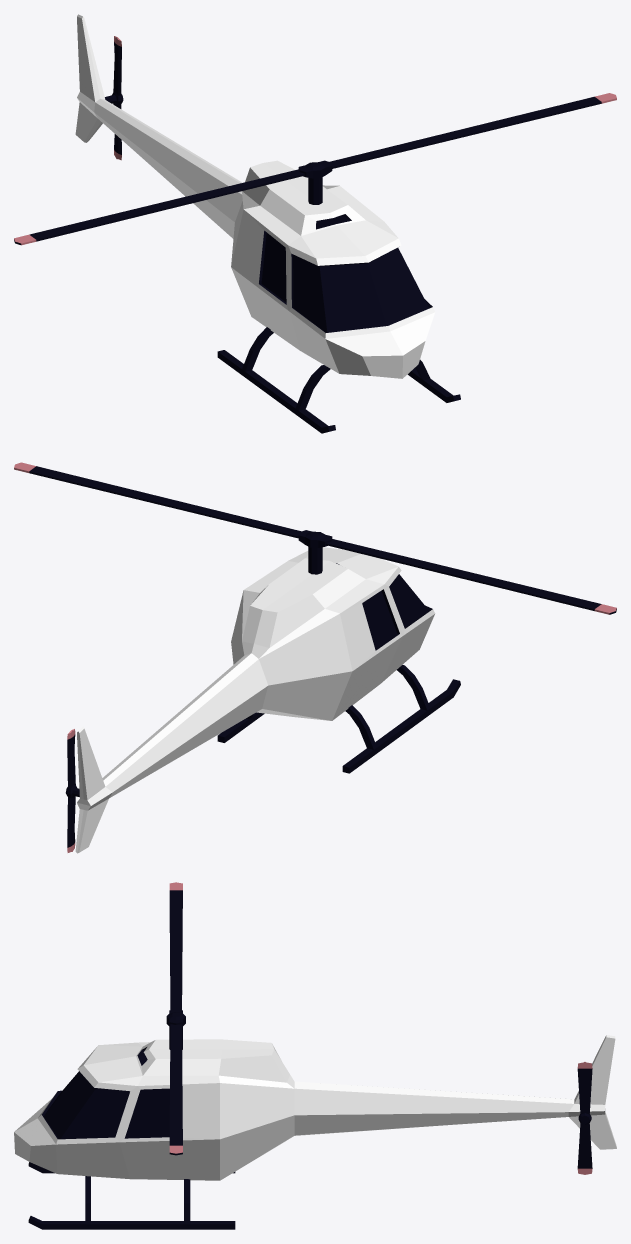
The model's file is helicopter.glb.
3 renders of one model, top to bottom at view 1: azimuth 30°, elevation 25°; view 2: azimuth 150°, elevation 25°; view 3: azimuth 270°, elevation 25°, orthographic. The views are drawn at different scales.
Parts seen in each view (by area): view 1: helicopter_2, blades_0, tail_rotor_1; view 2: helicopter_2, blades_0, tail_rotor_1; view 3: helicopter_2, blades_0, tail_rotor_1.
Part boxes in pixels (<box>): helicopter_2: <box>75,14,460,433</box>; blades_0: <box>14,93,616,245</box>; tail_rotor_1: <box>105,36,123,160</box>; helicopter_2: <box>75,547,460,853</box>; blades_0: <box>14,462,616,614</box>; tail_rotor_1: <box>65,729,79,852</box>; helicopter_2: <box>14,1035,616,1229</box>; blades_0: <box>166,882,185,1155</box>; tail_rotor_1: <box>577,1062,592,1174</box>.
Size of the model in its own units: 11.49 by 3.66 by 10.79.
1 material, 1 textured.
